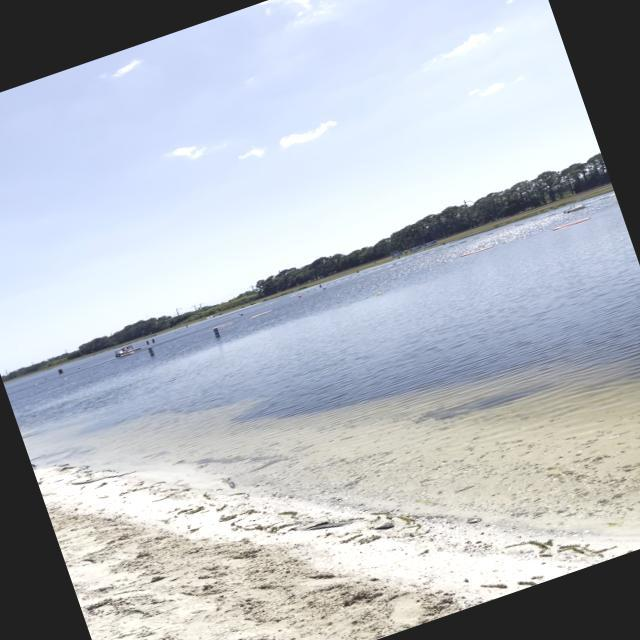buoy: (375, 290, 382, 296), (296, 294, 302, 298), (238, 312, 244, 316), (322, 286, 327, 290)
